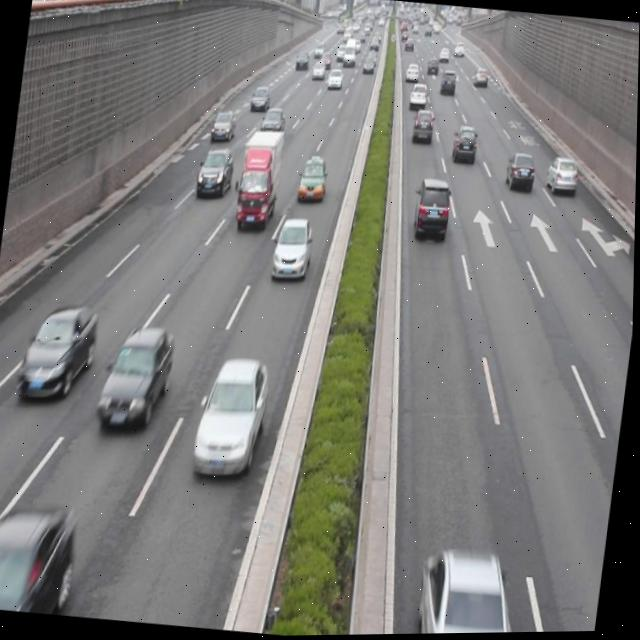bus: (234, 127, 284, 229)
car: (415, 541, 524, 635), (193, 354, 272, 478), (96, 319, 177, 435), (17, 299, 100, 409), (0, 500, 73, 615), (272, 215, 316, 280), (411, 176, 453, 244), (195, 147, 235, 200), (543, 154, 580, 198), (297, 156, 329, 203), (505, 151, 536, 194), (450, 123, 479, 167), (209, 108, 238, 146), (411, 107, 436, 143), (261, 105, 287, 136), (249, 84, 271, 113)
